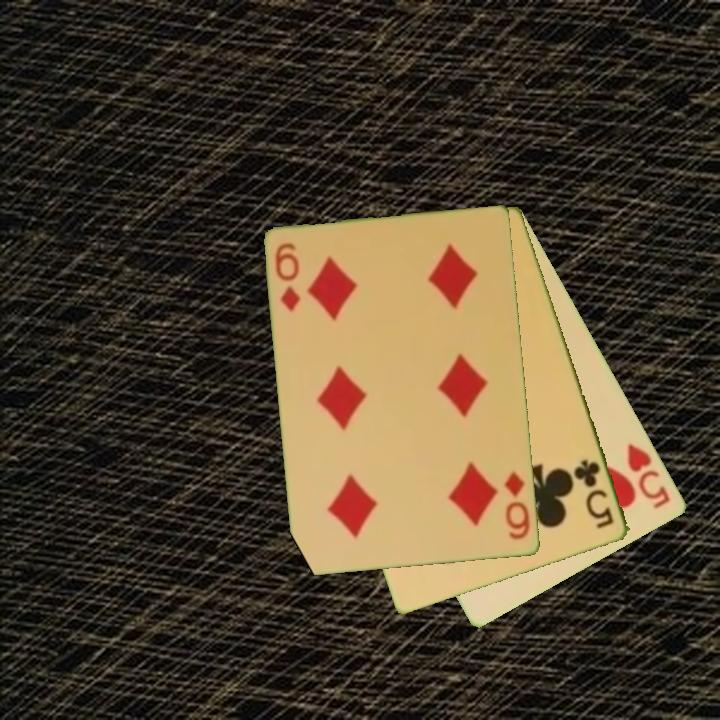5c: (570, 456, 617, 532)
5h: (624, 440, 674, 512)
6d: (501, 468, 533, 543), (272, 240, 304, 315)
